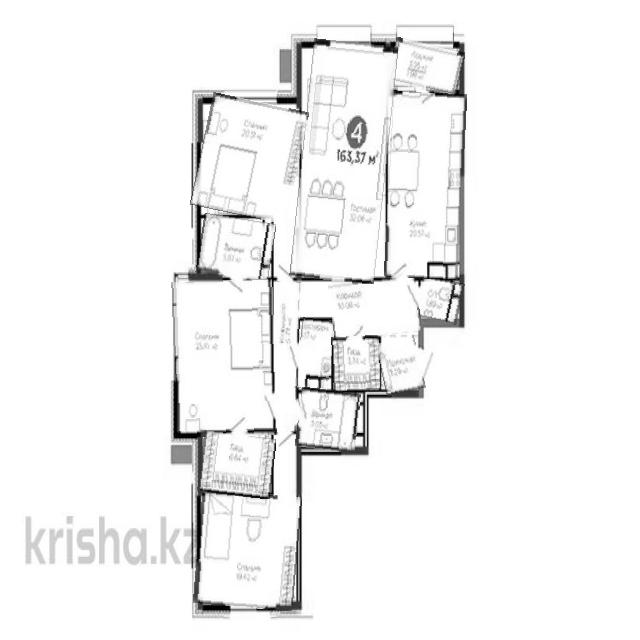balcony: (388, 41, 463, 94)
bathroom: (197, 216, 274, 280), (297, 389, 359, 452), (296, 318, 333, 391), (418, 277, 463, 324)
hallway: (330, 276, 421, 338), (273, 281, 300, 432), (378, 337, 423, 394)
kitchen: (386, 92, 465, 280)
living_room: (295, 40, 392, 283), (173, 280, 276, 438), (195, 97, 304, 220), (196, 490, 300, 609)
other: (199, 432, 274, 497), (332, 336, 379, 390)
